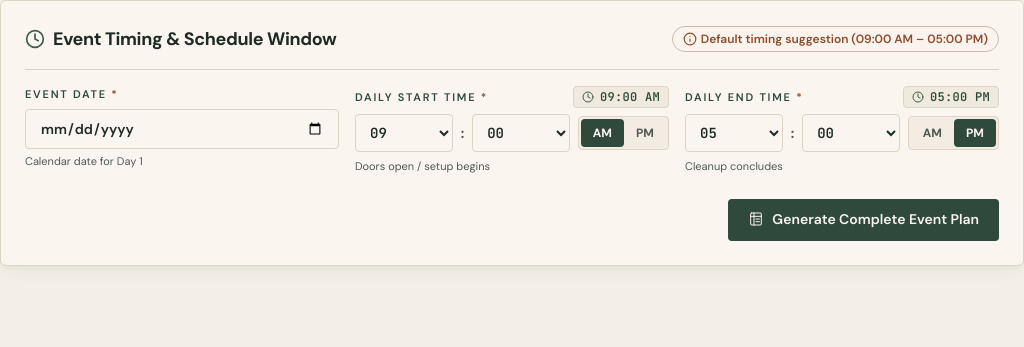
Complete Event Plan (Phase 3 Frontend) › validates timing form: requires valid event date
What coordinates should you click on to do the following:
click the button "Generate Complete Event Plan"
I would click on:
 (864, 220)
Its box is [728,198,999,240].
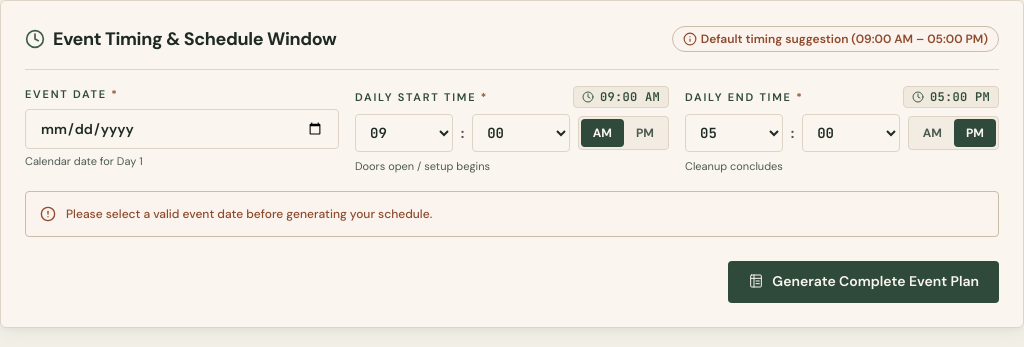
Check: the message shows "Please select a valid event date", box [66,206,432,222]
